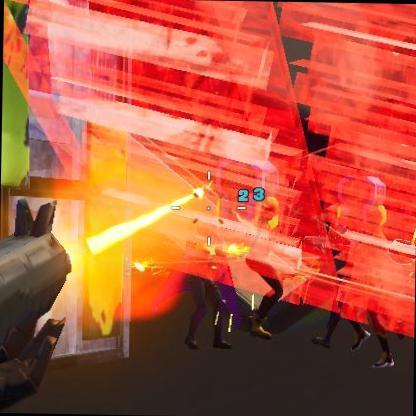person: (248, 270, 283, 336), (184, 276, 210, 350), (363, 312, 396, 368), (208, 282, 232, 349)
